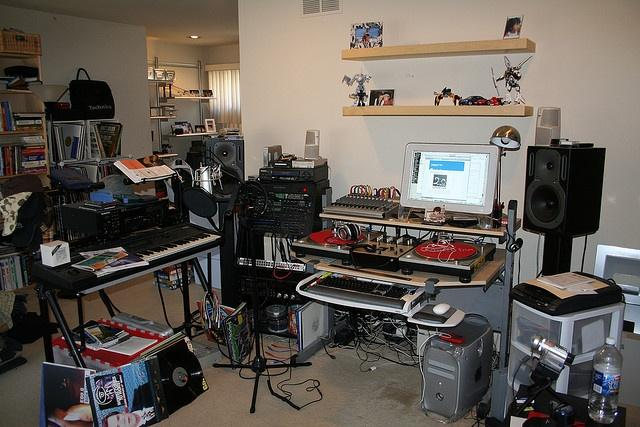AIO PC-Monitor-TV: (400, 141, 498, 217)
